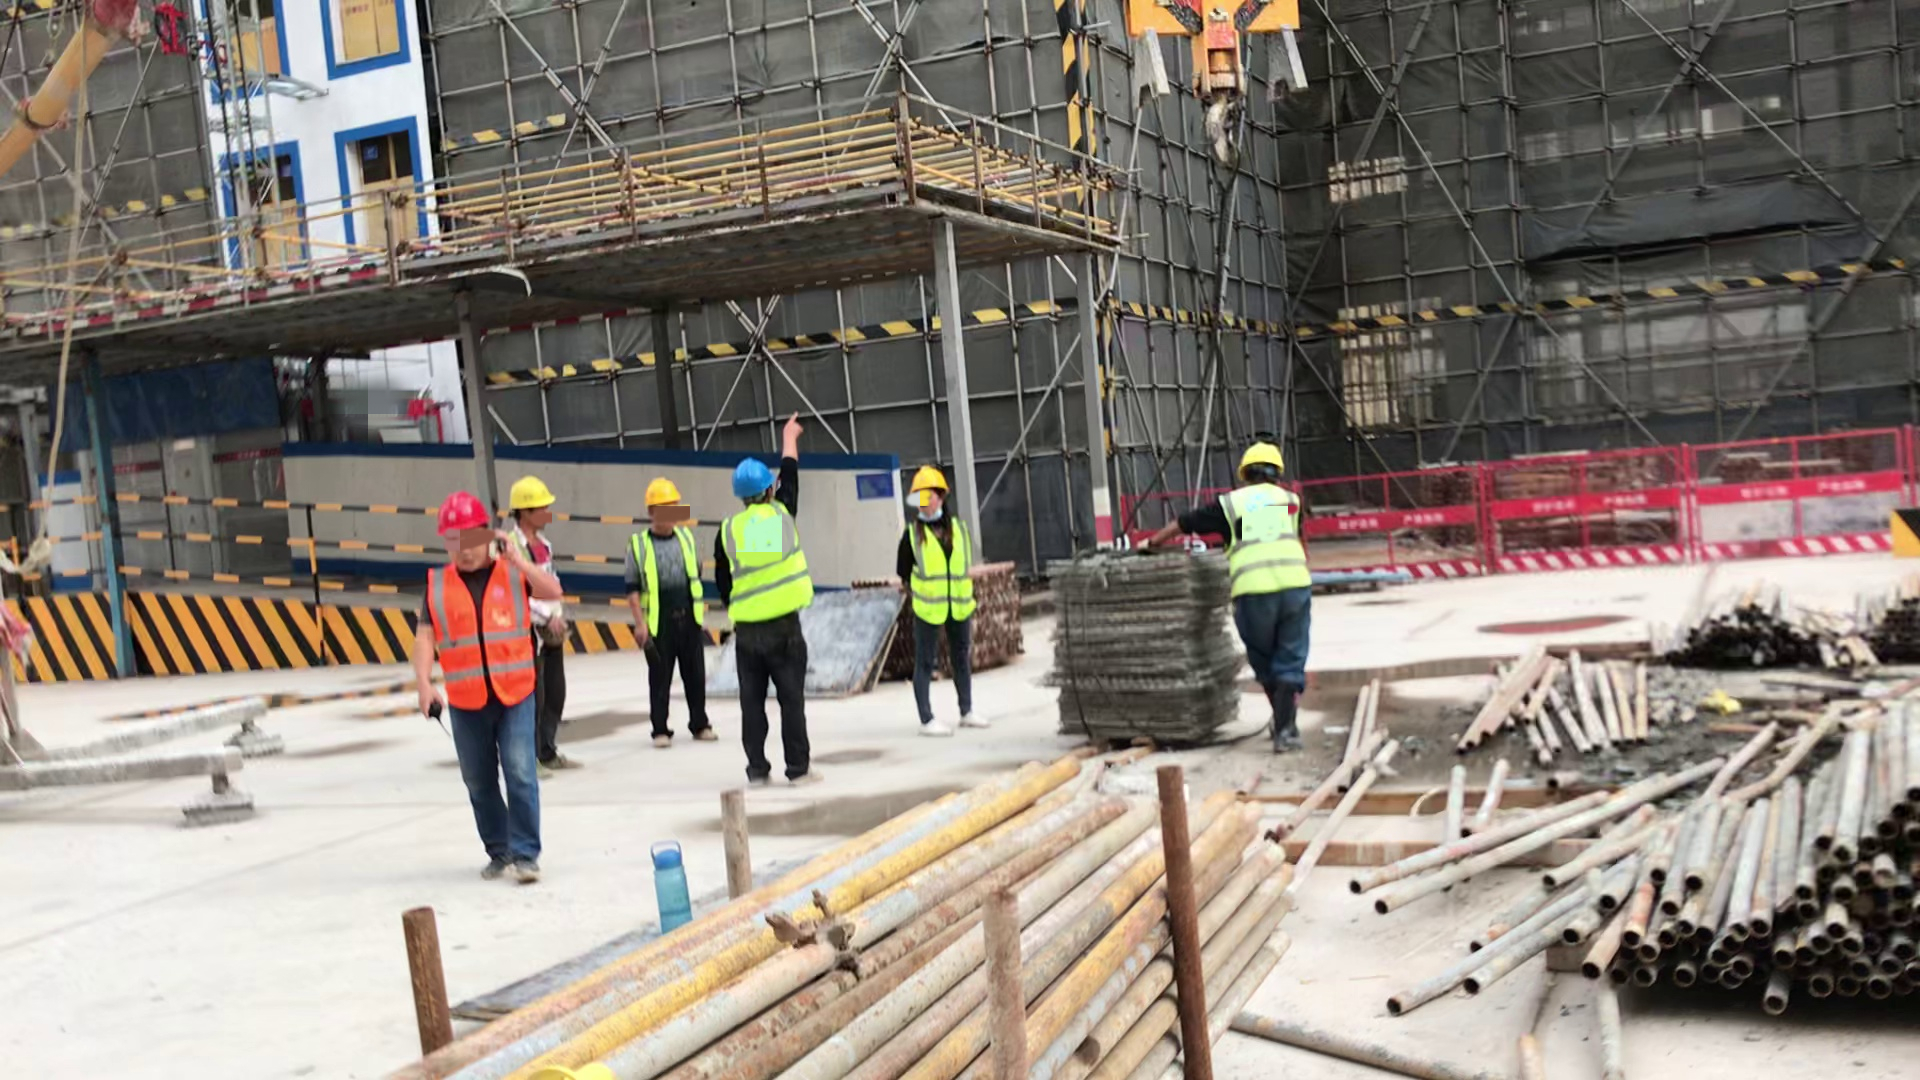helmet: (438, 492, 490, 533), (1236, 445, 1284, 473), (732, 463, 774, 495), (509, 478, 556, 504), (645, 479, 680, 506), (912, 468, 949, 493)
person: (415, 491, 544, 883), (1193, 445, 1315, 757), (720, 462, 820, 792), (893, 468, 986, 738), (508, 480, 581, 784), (628, 480, 709, 743)
vest: (432, 572, 539, 710), (728, 504, 815, 623), (1220, 485, 1309, 597), (908, 515, 974, 626), (638, 530, 706, 631)
